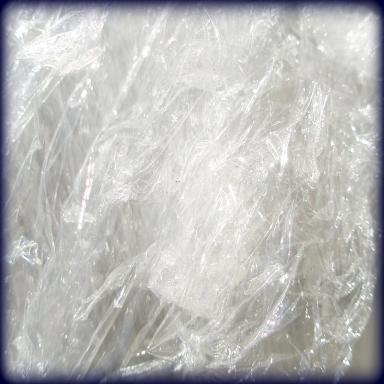plasticbag: (1, 0, 382, 379)
